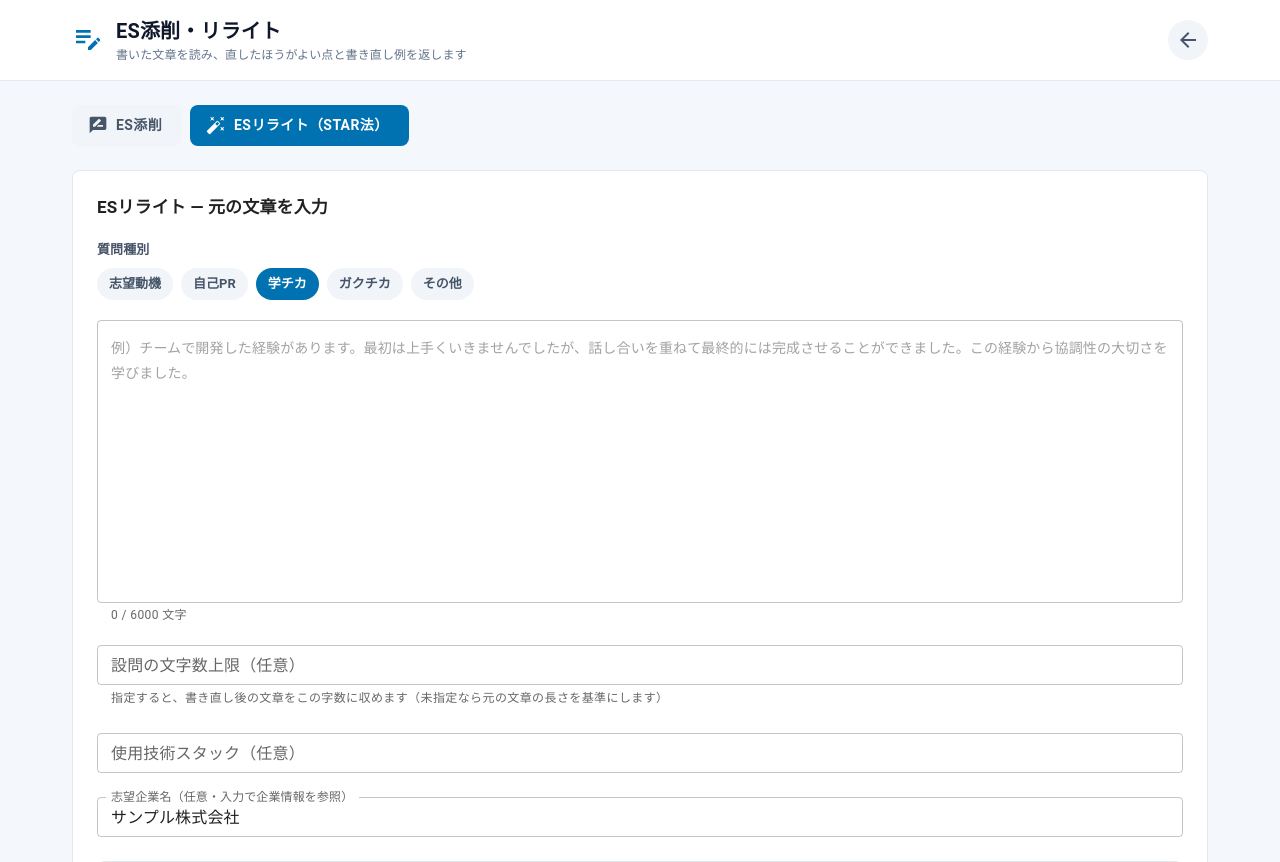
Test case: ESRewritePage 企業適合性の表示 (#1524) › 422は detail の案内文をそのまま表示する（BFFの一般文で上書きしない / #1521）
Step 1. Click the button "ES添削" → [127, 125], box [72,105,182,146]
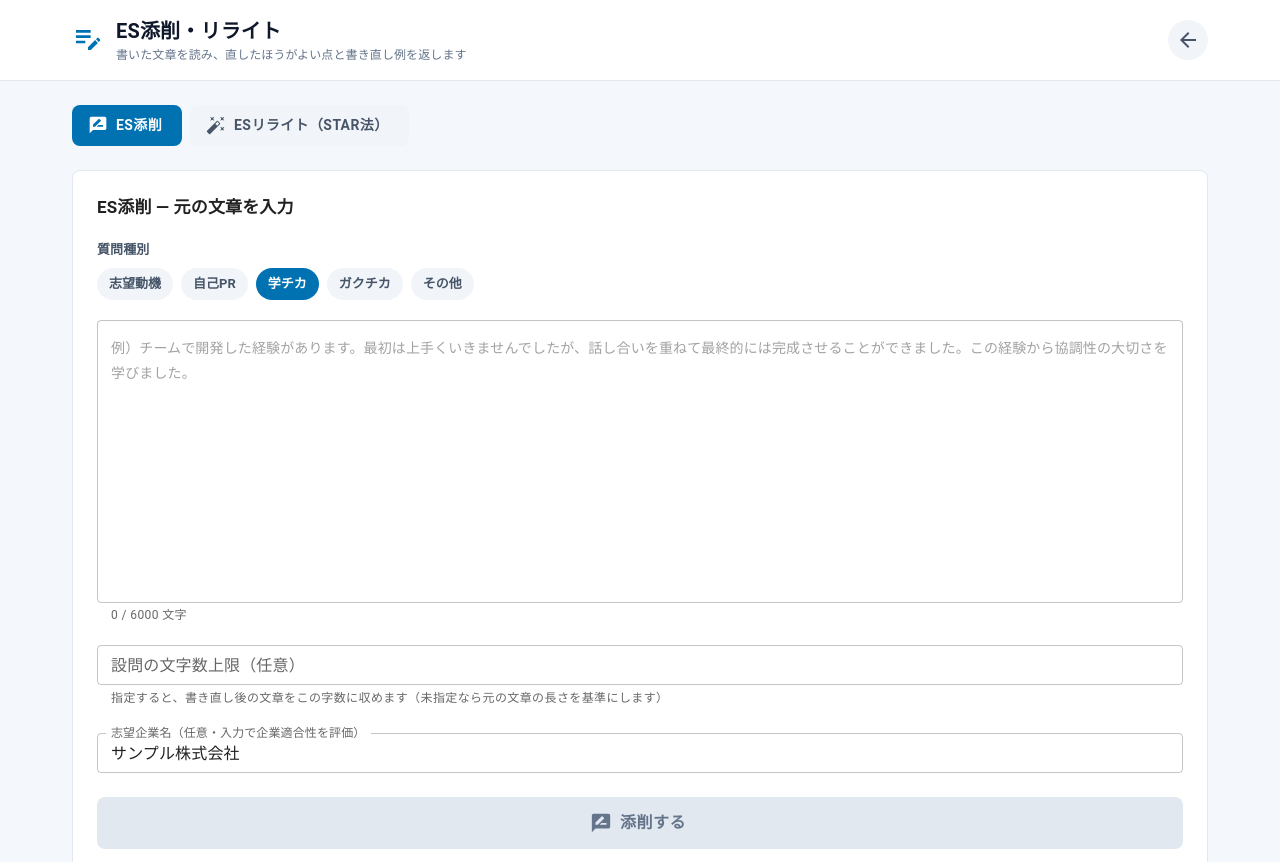
Step 2. Replace the text in the text box with placeholder "チームで開発した経験があります" with "長い文章です。" → [640, 461], box [111,336,1169,586]
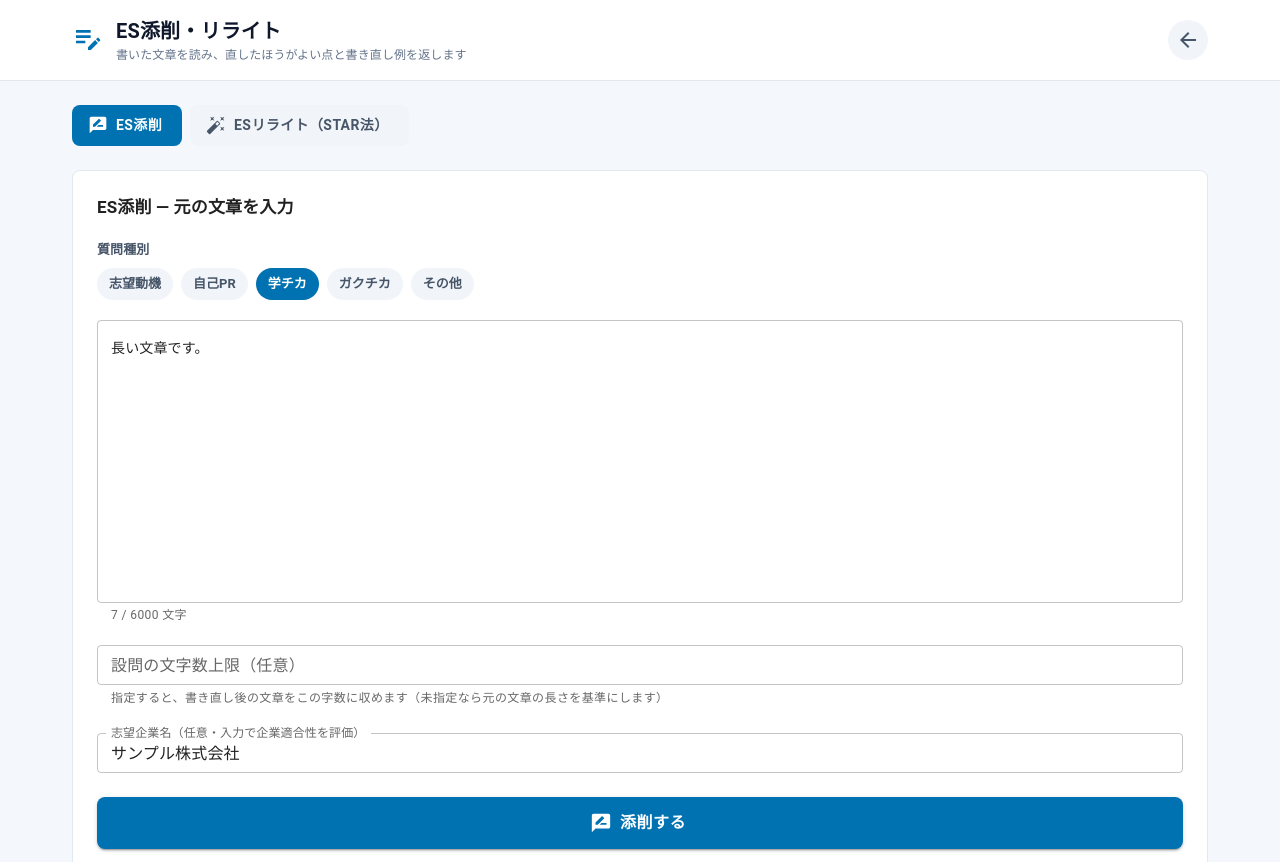
Step 3. Click the button "添削する" → [640, 823], box [97,797,1183,849]
(page scrolled)
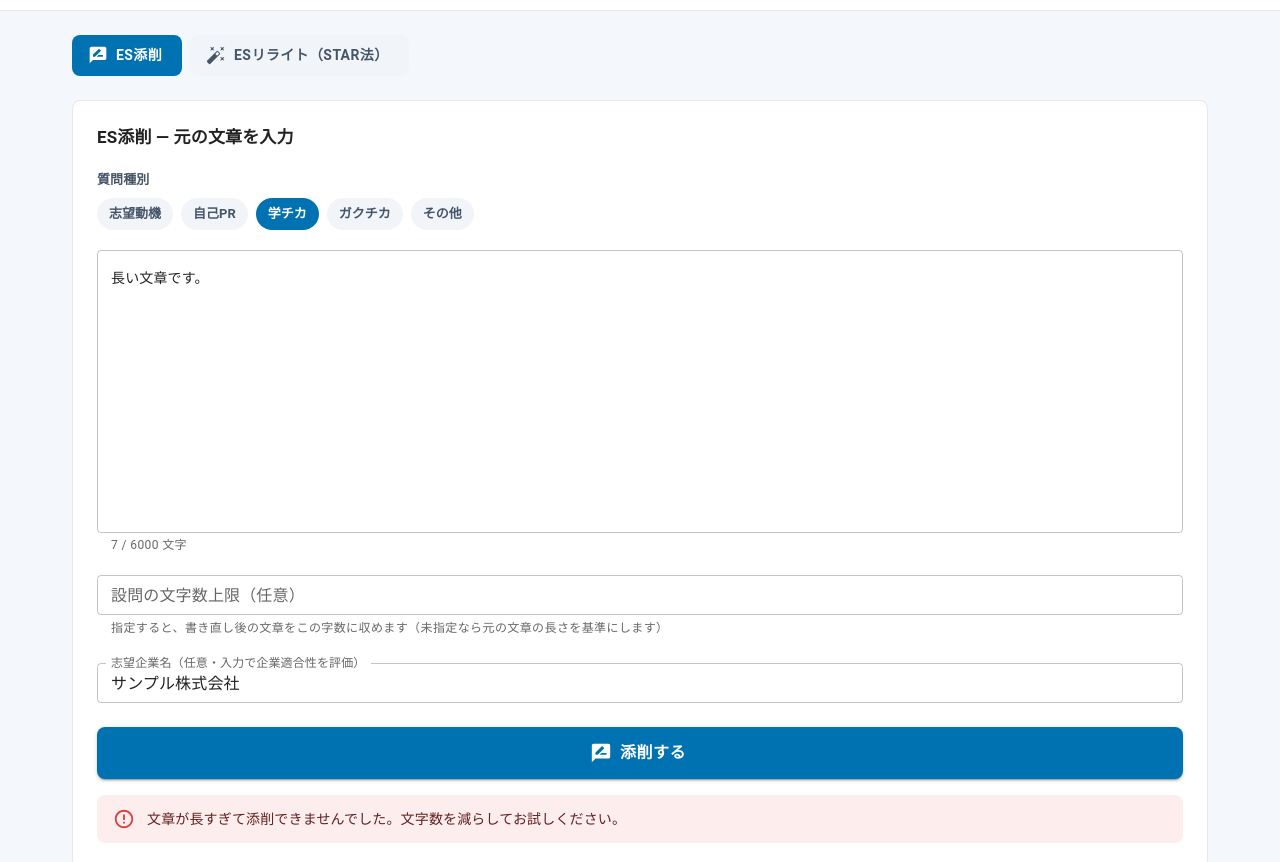
expect the text "文章が長すぎて添削できませんでした。文字数を減らしてお試しください。" is shown: met, box [147,811,626,827]
